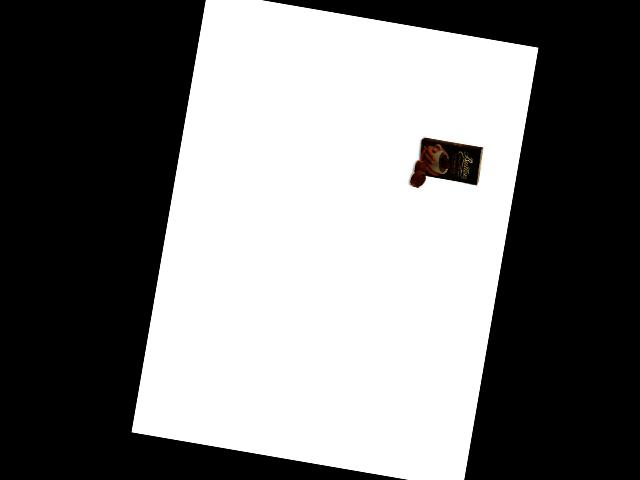chocolate: (413, 134, 486, 191)
